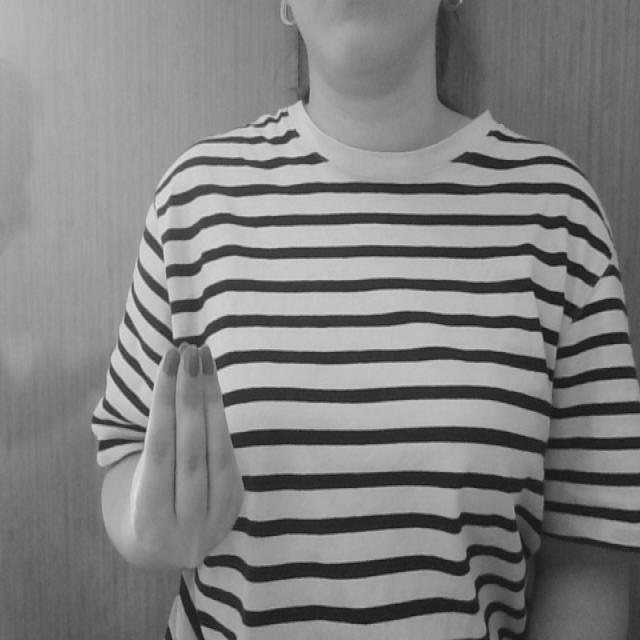iyi: (128, 331, 248, 574)
